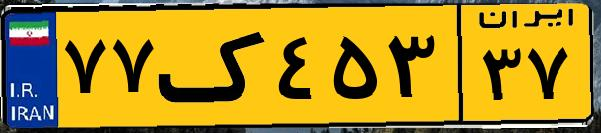3: (385, 28, 445, 110), (475, 38, 525, 113)
4: (270, 28, 330, 110)
5: (330, 28, 385, 110)
7: (57, 26, 110, 100), (525, 38, 570, 115), (110, 28, 158, 98)
ک: (158, 12, 270, 120)
